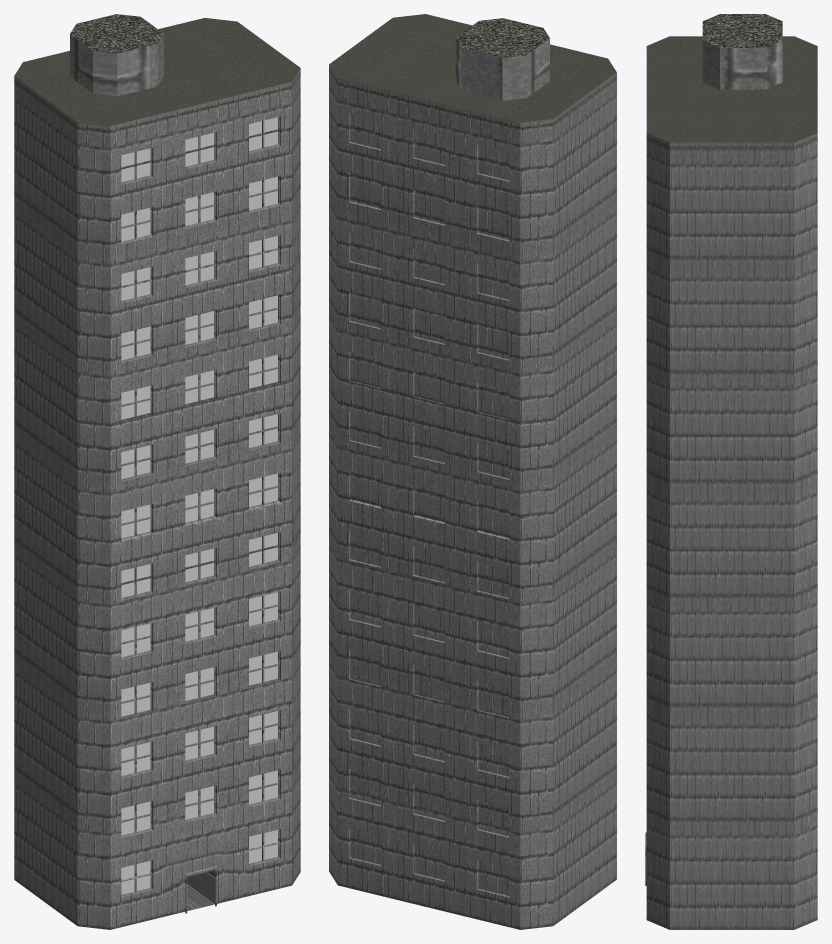
File: APARTMENT_02.fbx
3 renders of one model, left to right at view 1: azimuth 30°, elevation 25°; view 2: azimuth 150°, elevation 25°; view 3: azimuth 270°, elevation 25°, orthographic. The views are drawn at different scales.
Parts seen in each view (by area): view 1: APARTMENT_02; view 2: APARTMENT_02; view 3: APARTMENT_02.
Part boxes in pixels (x1=…): APARTMENT_02: x1=14, y1=14, x2=300, y2=929; APARTMENT_02: x1=329, y1=14, x2=616, y2=929; APARTMENT_02: x1=645, y1=14, x2=817, y2=929.
Bounding box in the file's own units: 1563 × 5681 × 1067.
